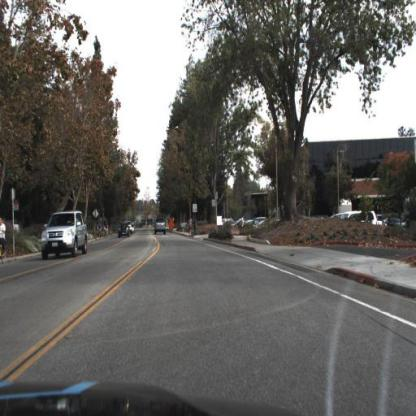biker: (1, 218, 10, 269), (97, 218, 105, 239), (104, 220, 110, 236), (188, 217, 193, 235)
car: (42, 210, 90, 260), (339, 209, 379, 227), (154, 215, 169, 237), (119, 222, 131, 237), (127, 219, 133, 236), (132, 225, 137, 236)
pedestrian: (240, 214, 245, 237)
